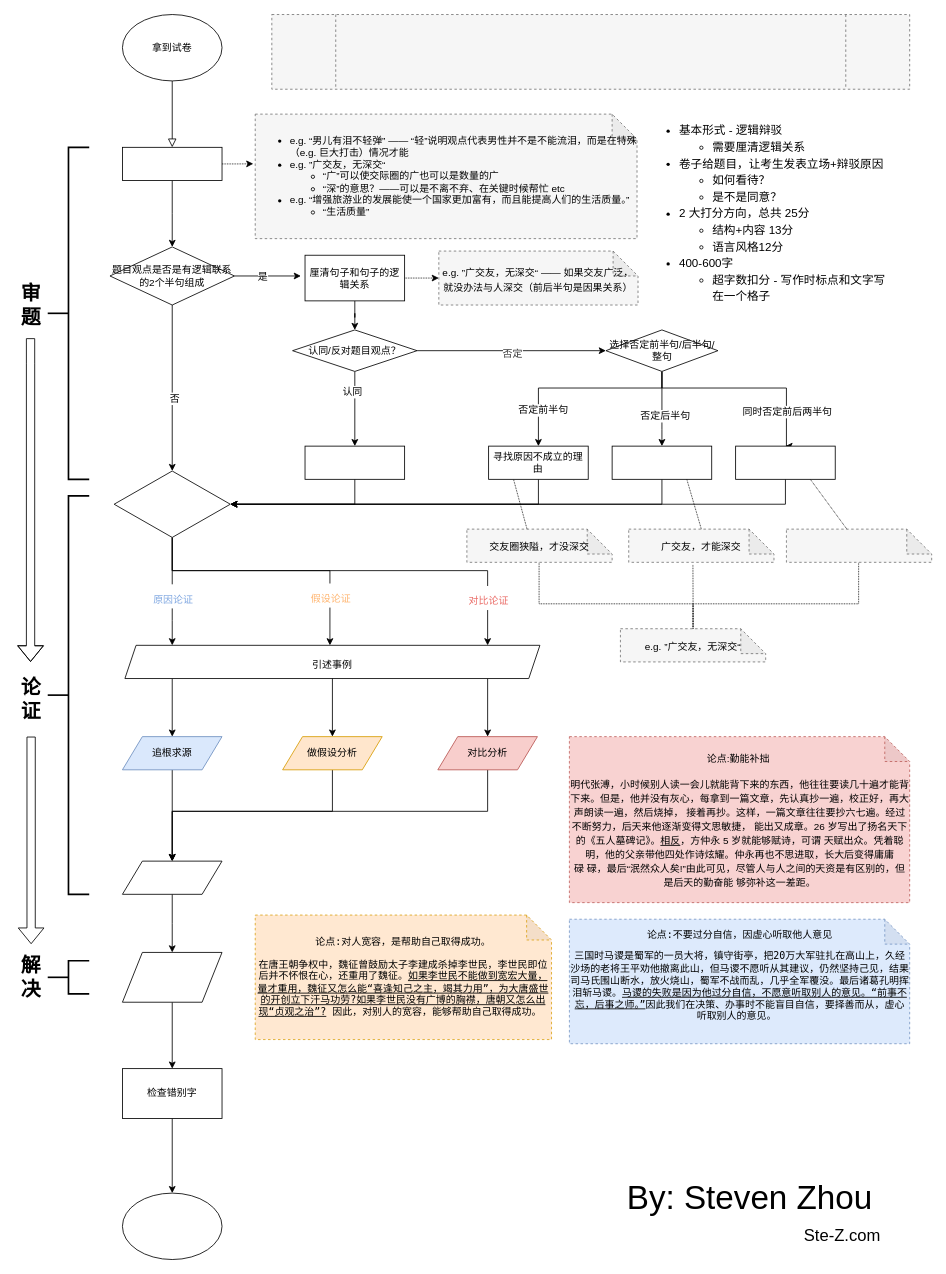
Image size: 946x1274. Some labels were removed from this diagram. Each missing label, with the centre of its shape:
"IGCSE议论文写作思路" belongs at (590,51).
"交卷" belongs at (172,1226).
"交友广泛和深浅没有直接关系" belongs at (859,545).
"寻找结果不成立的理由" belongs at (661,462).
"寻找解决方案，写在最后一段" belongs at (172,977).
"寻找证明整句话正确的例子、逻辑" belongs at (354,462).
"寻找逻辑不成立的理由" belongs at (785,462).
"扣回论题" belongs at (172,877).
"抓住关键词" belongs at (172,163).
"选择论证思路" belongs at (171,503).
